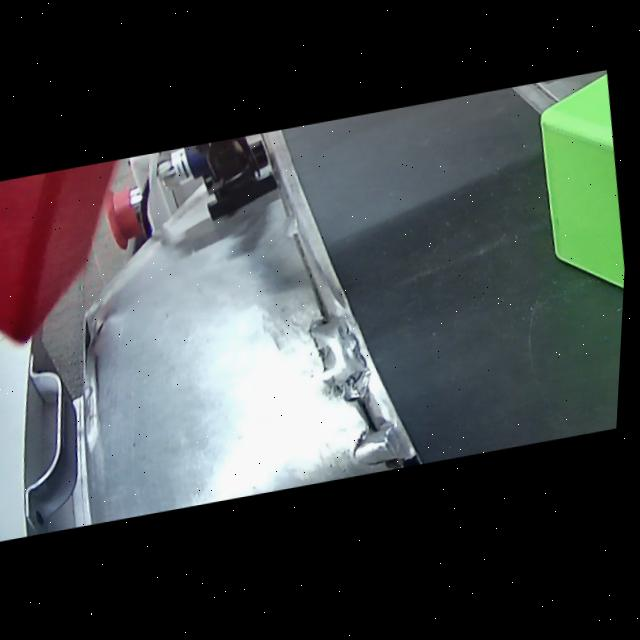redBox: (0, 141, 249, 356), (524, 75, 636, 379)
